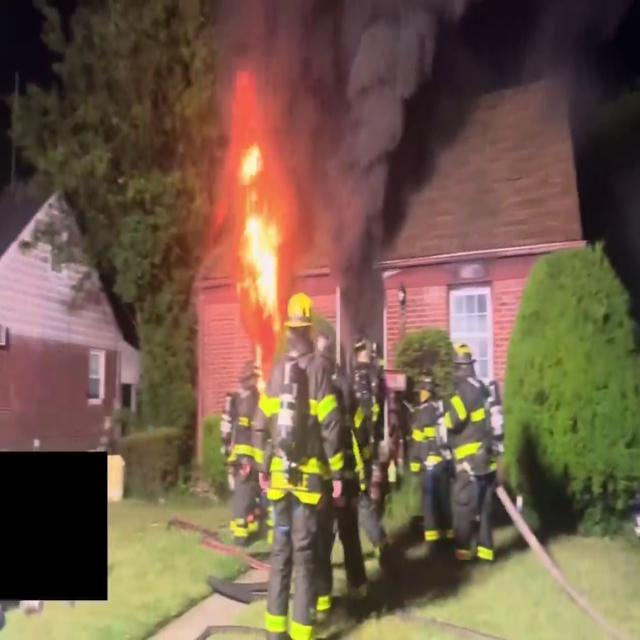Fire: (224, 111, 298, 326)
Smoke: (226, 0, 459, 220), (534, 0, 638, 192)
